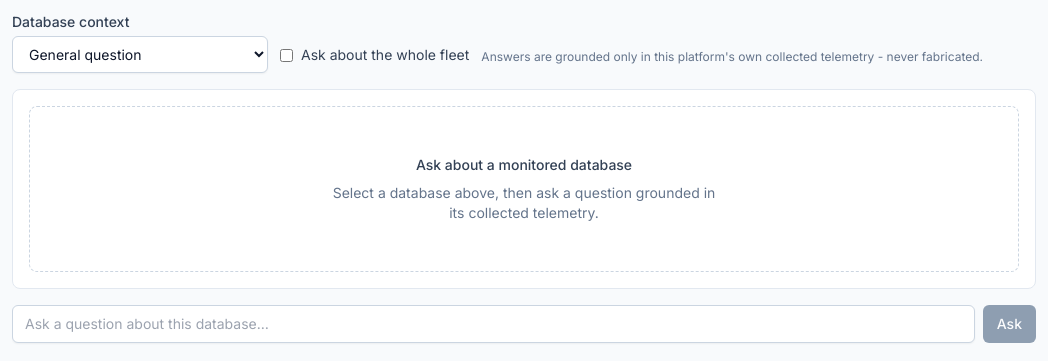
it: AiCopilotPage › does not allow submitting a second question while the first is still in flight
The width and height of the screenshot is (1048, 361).
In the field with placeholder "Ask a question about this database…": (493,324) left=12, top=305, right=975, bottom=343, type "First question"
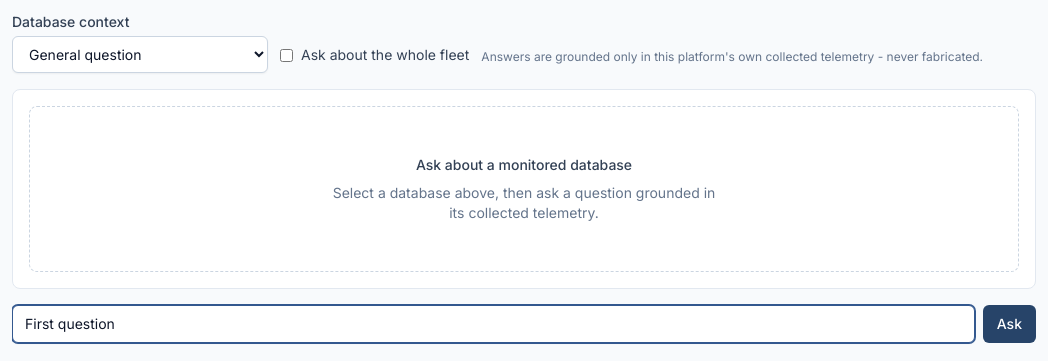
Click the button "Ask": (1009,324) left=983, top=305, right=1036, bottom=343
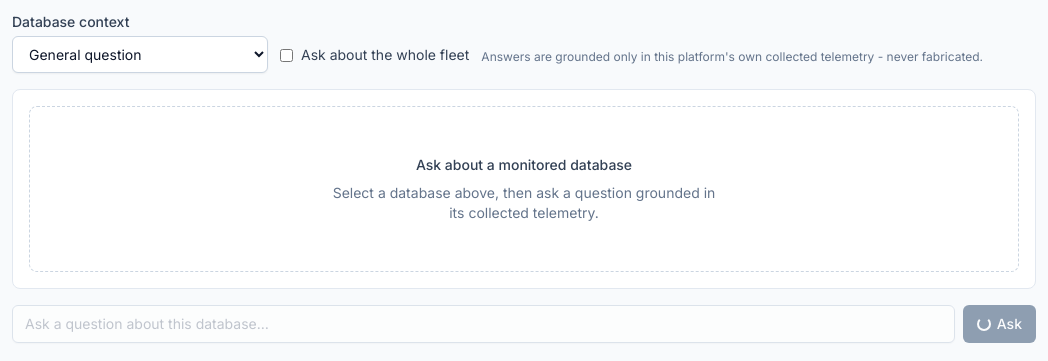
Result: the field with placeholder "Ask a question about this database…" is disabled
A second Enter press while the first request is still outstanding must not fire another call.
In the field with placeholder "Ask a question about this database…": (483,324) left=12, top=305, right=955, bottom=343, type "Second question"
Then press Enter
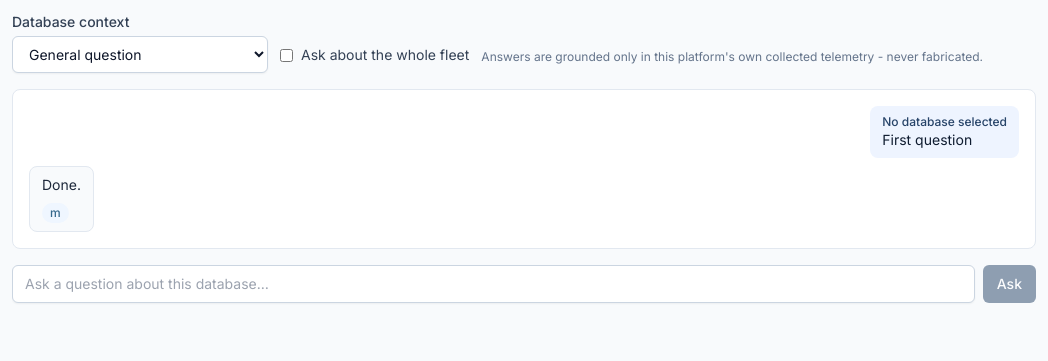
Result: the text "Done." is shown at left=42, top=175, right=81, bottom=195
